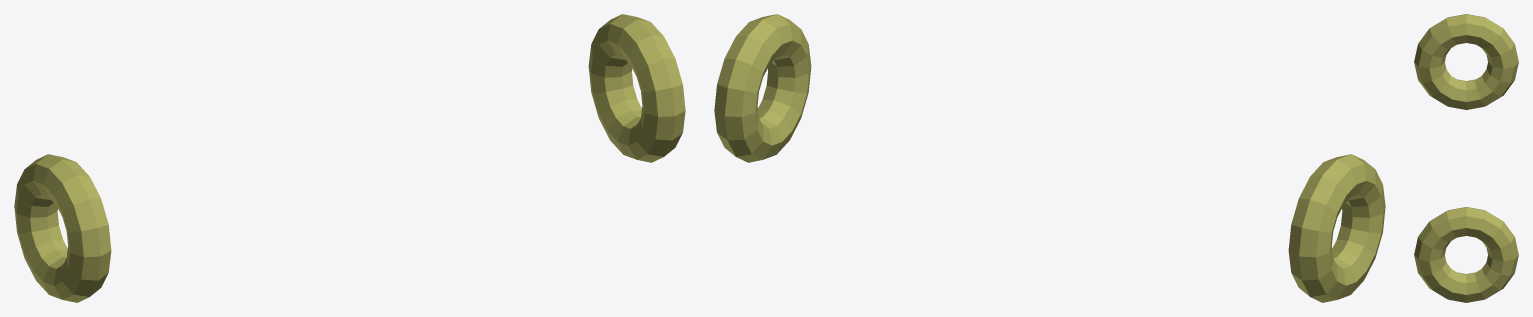
The model's file is string1.fbx.
3 views of the same model, side by side, from view 1: azimuth 30°, elevation 25°; view 2: azimuth 150°, elevation 25°; view 3: azimuth 270°, elevation 25° (orthographic). The views are drawn at different scales.
Parts seen in each view (by area): view 1: 绳圈_2, 绳圈, 绳圈_1, 绳圈_1_2; view 2: 绳圈_1, 绳圈_1_2, 绳圈_2, 绳圈; view 3: 绳圈, 绳圈_2, 绳圈_1_2, 绳圈_1.
Part boxes in pixels (x1,y1,x2,y2): 绳圈_2: (598, 14, 685, 156); 绳圈: (24, 154, 111, 296); 绳圈_1: (14, 169, 89, 302); 绳圈_1_2: (588, 30, 663, 162); 绳圈_1: (1288, 198, 1375, 302); 绳圈_1_2: (714, 58, 801, 162); 绳圈_2: (724, 14, 811, 116); 绳圈: (1299, 154, 1385, 257); 绳圈: (1414, 14, 1503, 97); 绳圈_2: (1414, 207, 1503, 289); 绳圈_1_2: (1432, 221, 1518, 302); 绳圈_1: (1432, 28, 1518, 109).
Size of the model in its own units: 158 by 34 by 34.
